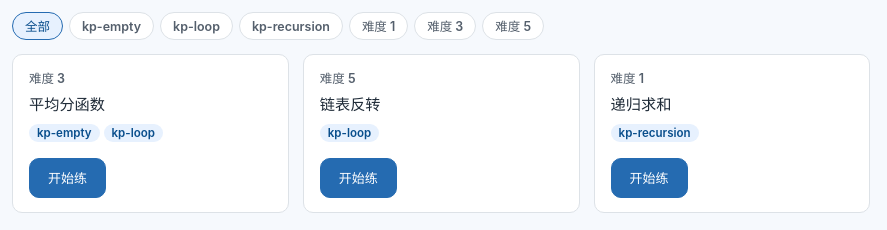
Test: QuestionCardGrid (P1-1) › shows an empty hint when no card matches the filter
The image size is (887, 230).
Click the button "kp-recursion".
click(291, 26)  # box [239, 12, 343, 40]
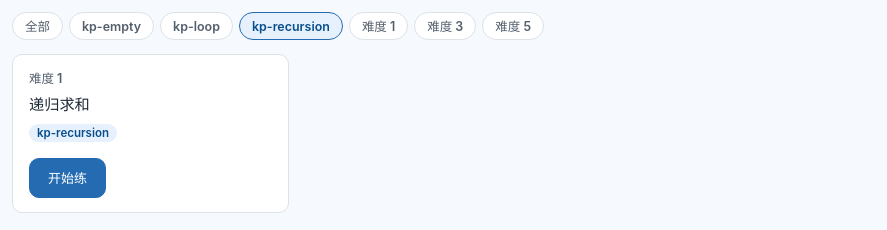
Click the button "难度 5".
click(513, 26)  # box [482, 12, 544, 40]
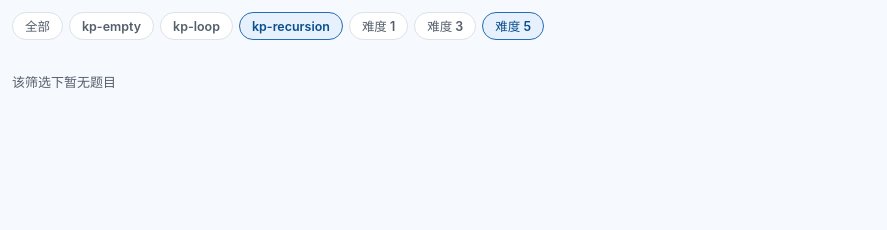
expect the text "该筛选下暂无题目" is shown: met, box [12, 74, 116, 90]
